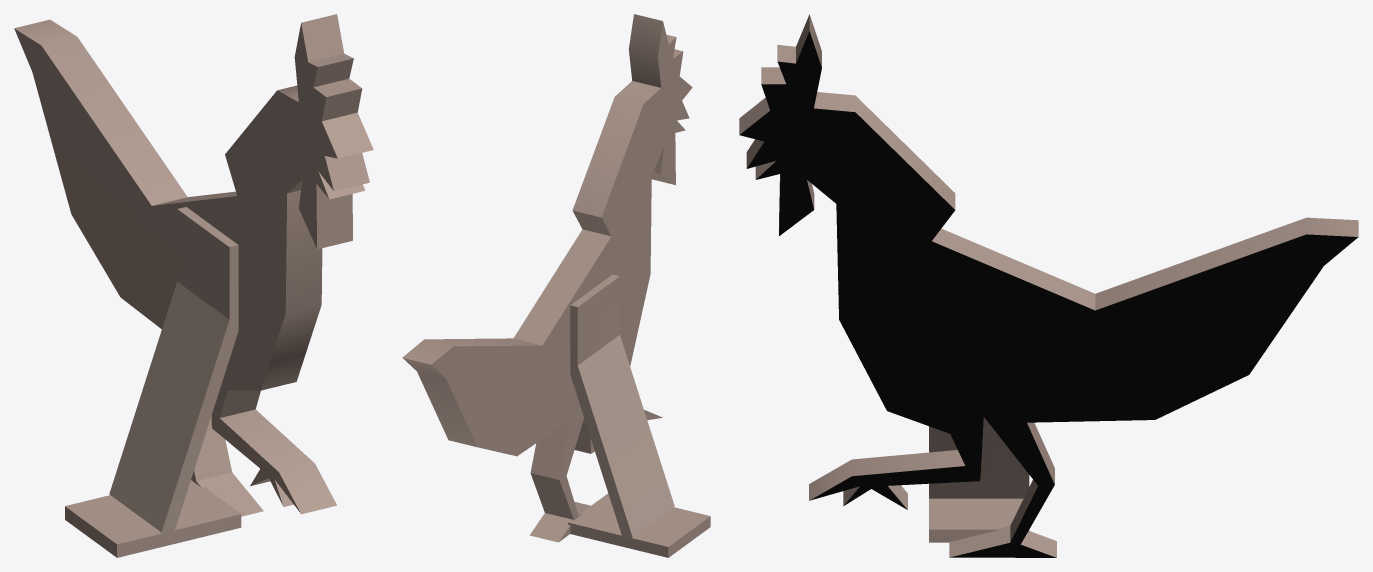
The model's file is Hane.FBX.
3 renders of one model, left to right at view 1: azimuth 30°, elevation 25°; view 2: azimuth 150°, elevation 25°; view 3: azimuth 270°, elevation 25°, orthographic. The views are drawn at different scales.
Visible parts, largest first — view 1: Hane; view 2: Hane; view 3: Hane.
Part boxes in pixels (left/top/right/bottom): Hane: left=14, top=14, right=373, bottom=557; Hane: left=402, top=14, right=710, bottom=557; Hane: left=739, top=14, right=1358, bottom=557.
Size of the model in its own units: 13.13 by 43.92 by 46.75.
